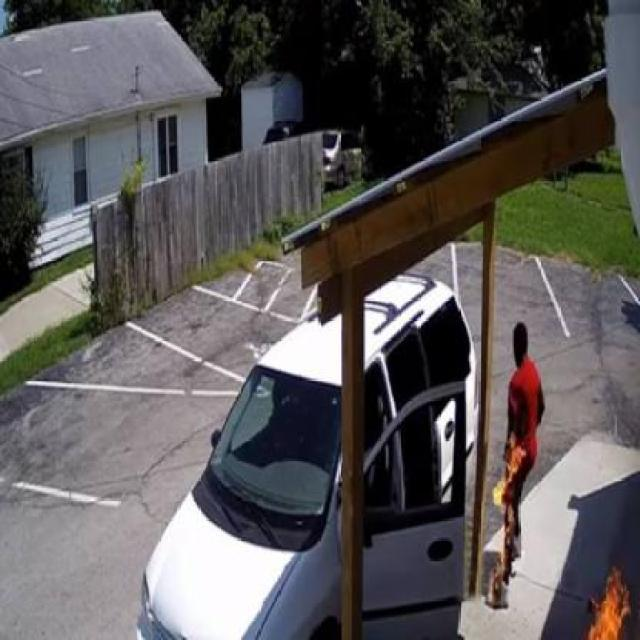Fire: (592, 563, 634, 639)
